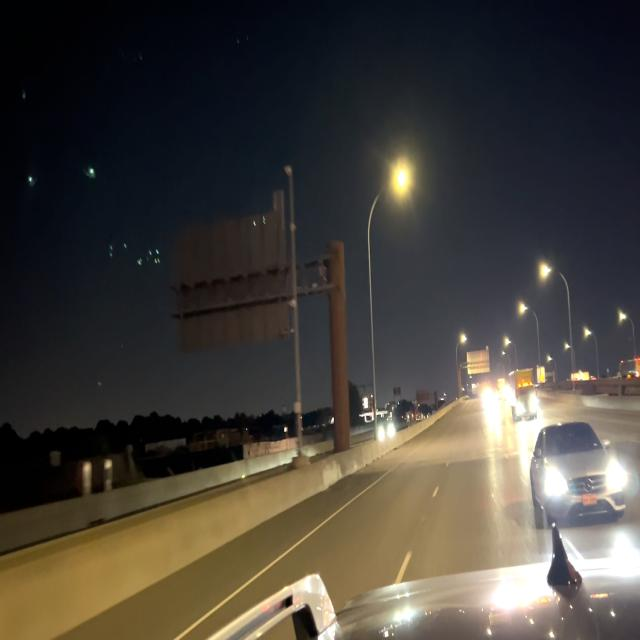back-of-sign: (175, 188, 291, 355), (465, 344, 491, 376)
